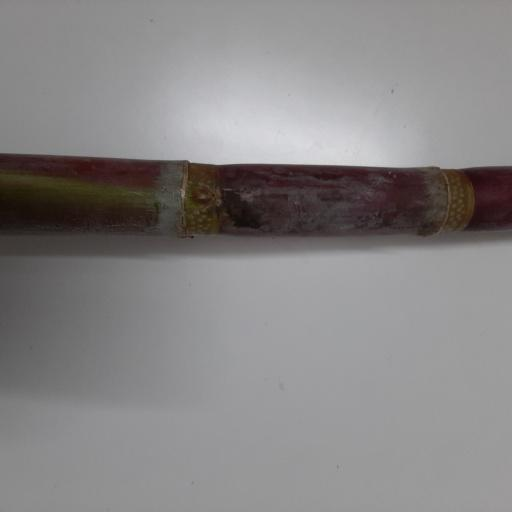Bud: (187, 185, 216, 208)
